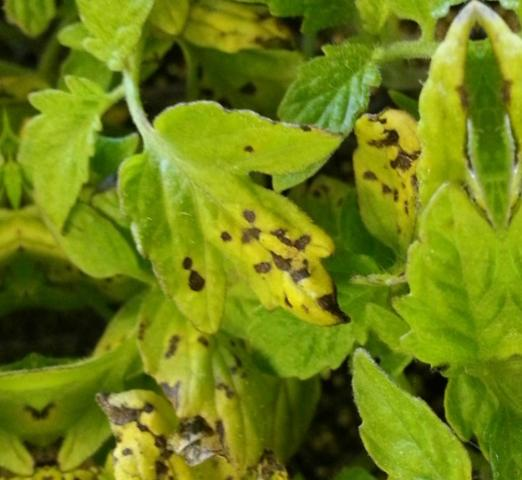Tomato leaf bacterial spot: (104, 66, 361, 353), (15, 52, 122, 246), (338, 86, 440, 285)
